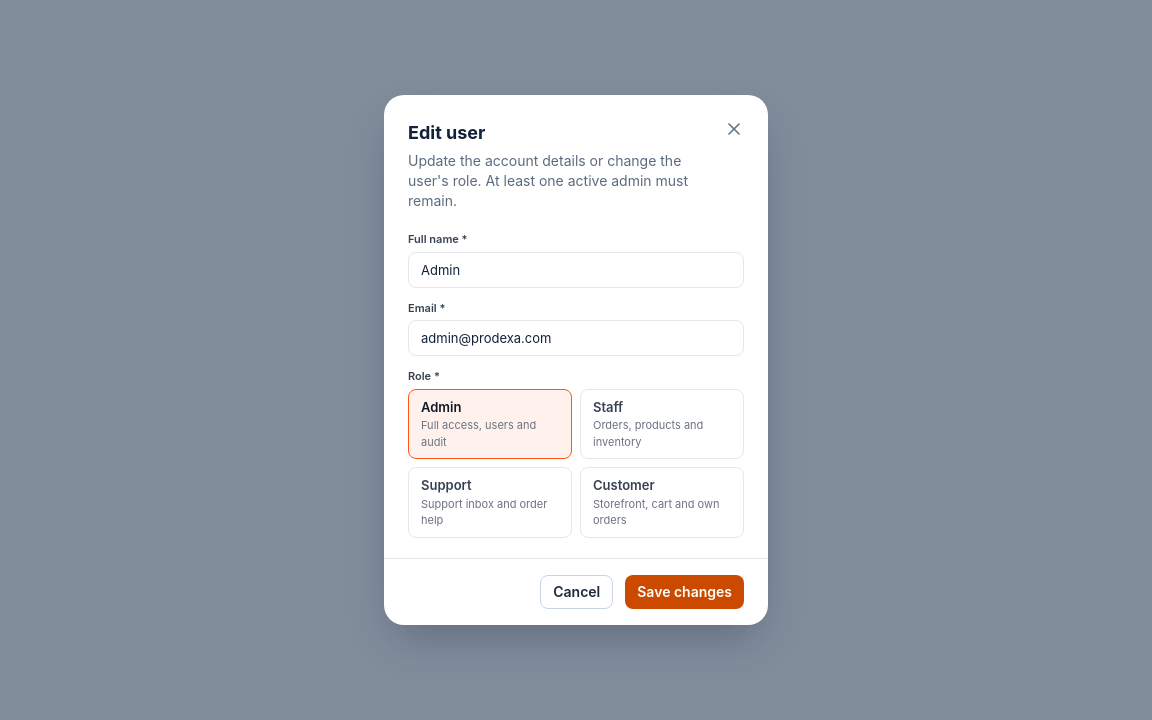
Test: UserFormDialog role handling › shows the self-protection message when an admin changes their own role (422)
The width and height of the screenshot is (1152, 720).
Step 1. Click the button "Staff Orders, products and inventory" → {"x": 662, "y": 424}, box x1=580 y1=389 x2=744 y2=459
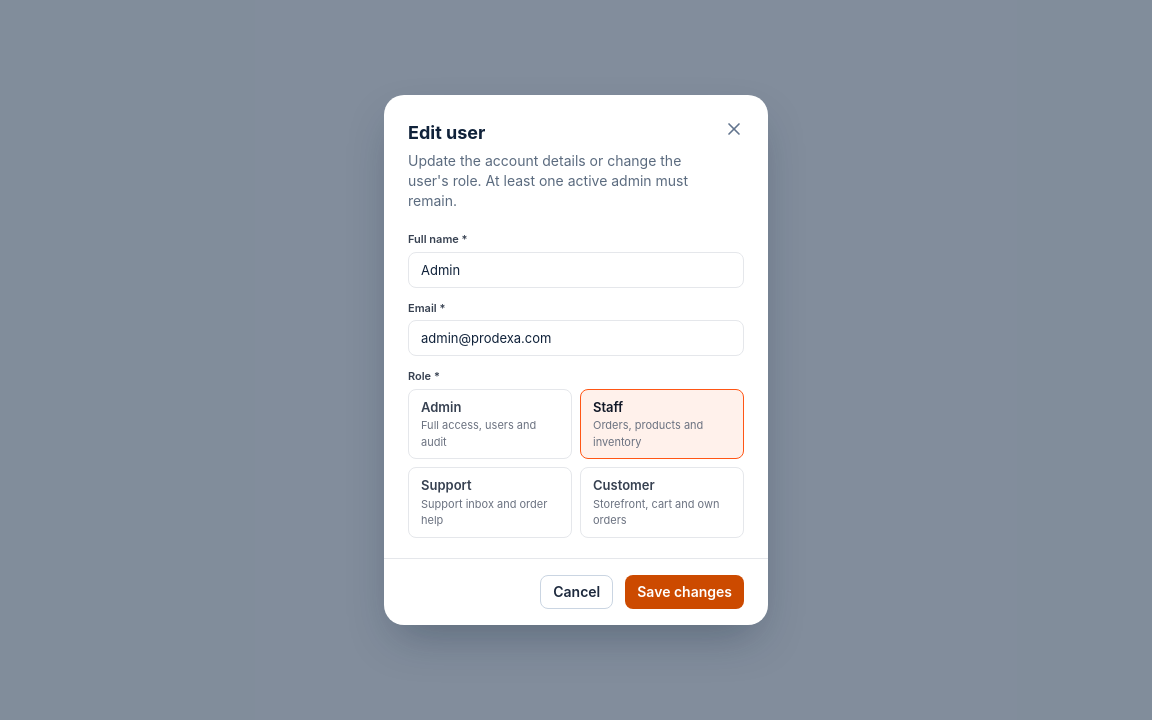
Step 2. Click the button "Save changes" → {"x": 685, "y": 592}, box x1=625 y1=575 x2=744 y2=609
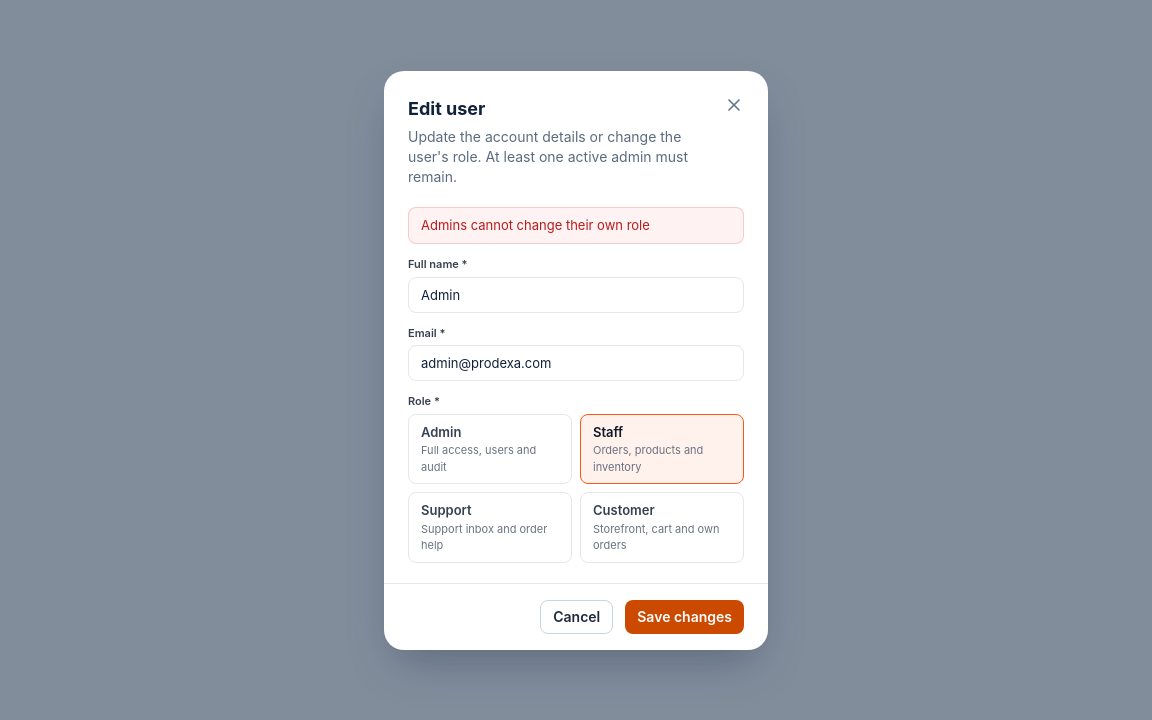
Expected: the message reads "Admins cannot change their own role", x1=421 y1=216 x2=650 y2=232
